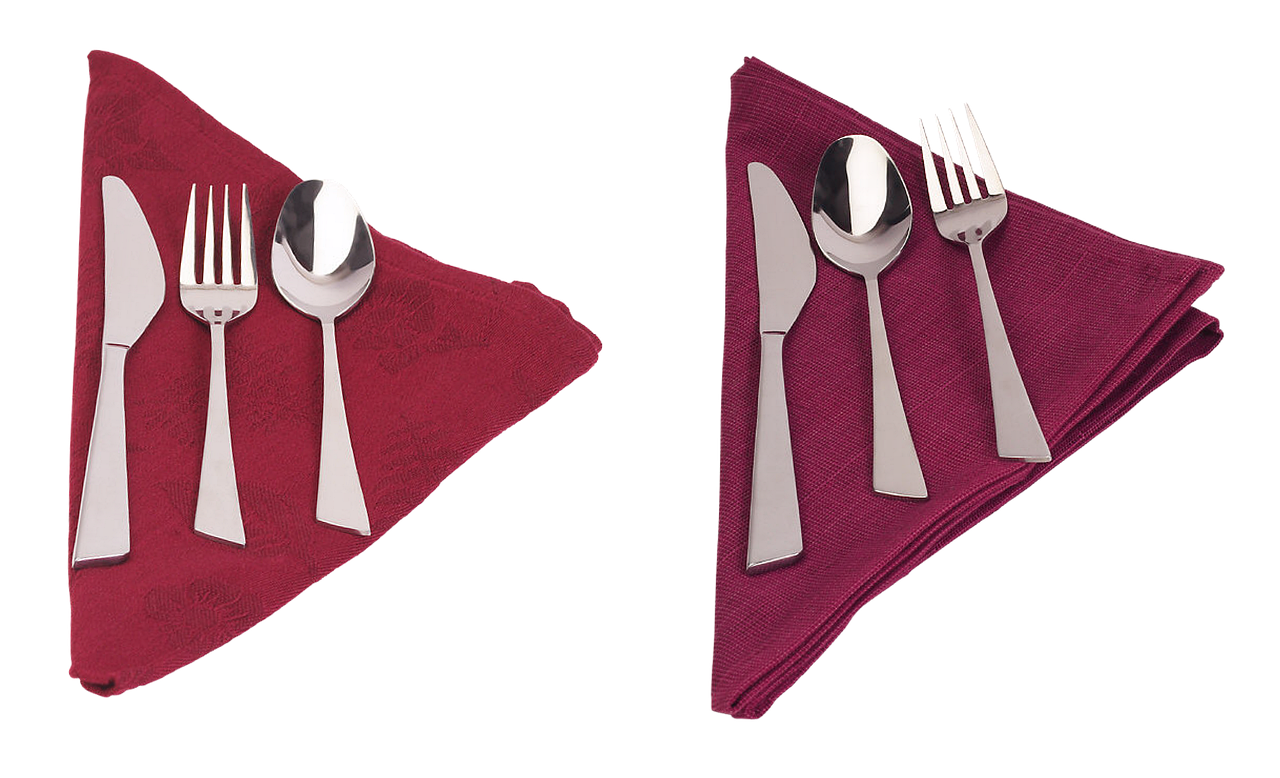knife: (61, 167, 171, 574), (742, 145, 824, 574)
